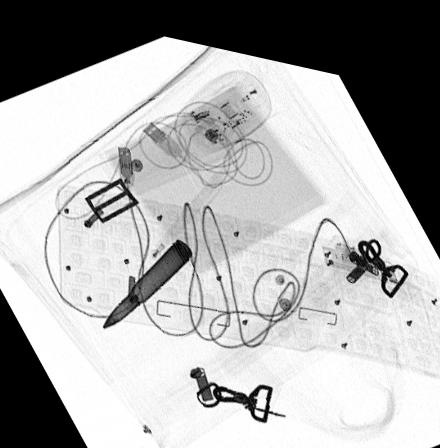Bullet: (101, 231, 193, 324)
